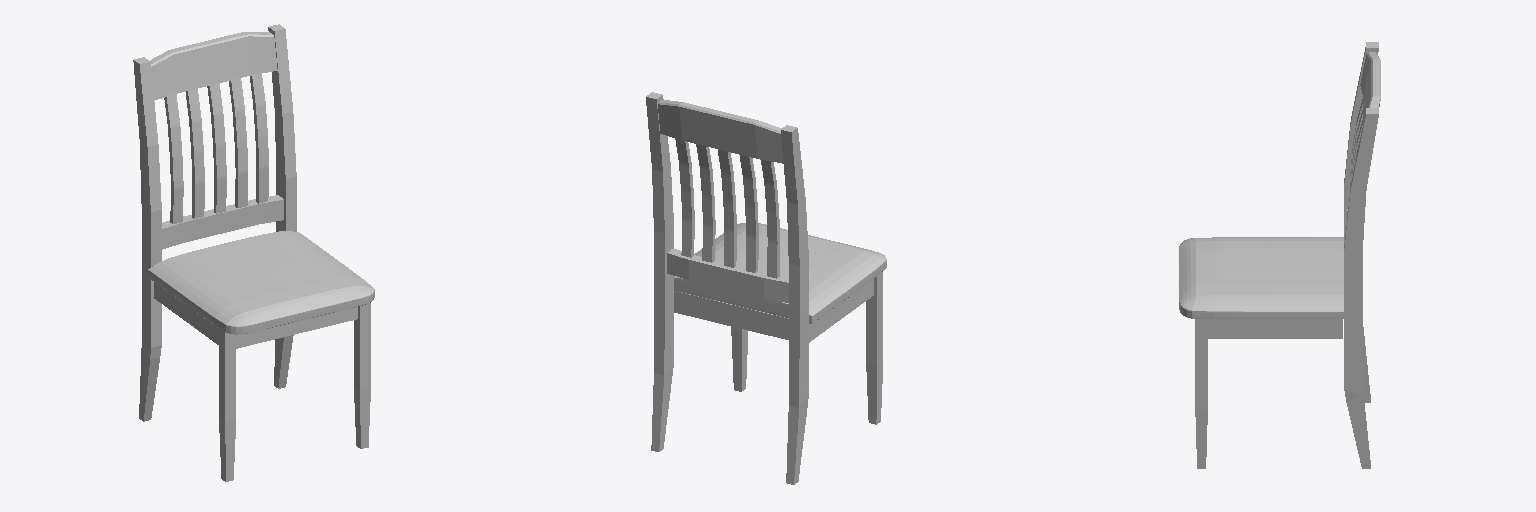
The model's file is Chair.obj.
3 views of the same model, side by side, from view 1: azimuth 30°, elevation 25°; view 2: azimuth 150°, elevation 25°; view 3: azimuth 270°, elevation 25° (orthographic).
Parts seen in each view (by area): view 1: default; view 2: default; view 3: default.
Part boxes in pixels (bbox=[...]): default: bbox=[133, 24, 374, 481]; default: bbox=[646, 92, 886, 484]; default: bbox=[1179, 42, 1380, 468].
Bounding box in the file's own units: 17.34 × 38.86 × 19.93.